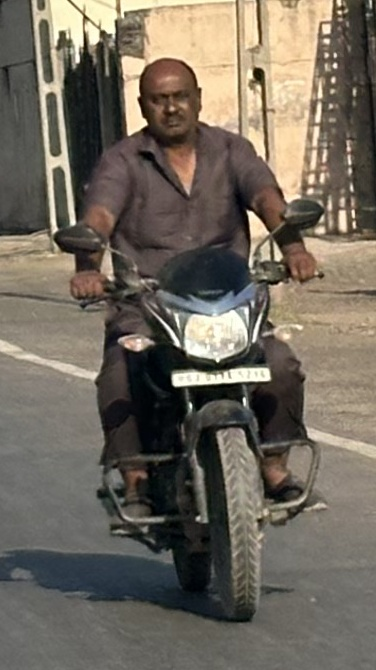BikeWithRider: (44, 49, 338, 628)
NoHelmet: (124, 51, 216, 147)
